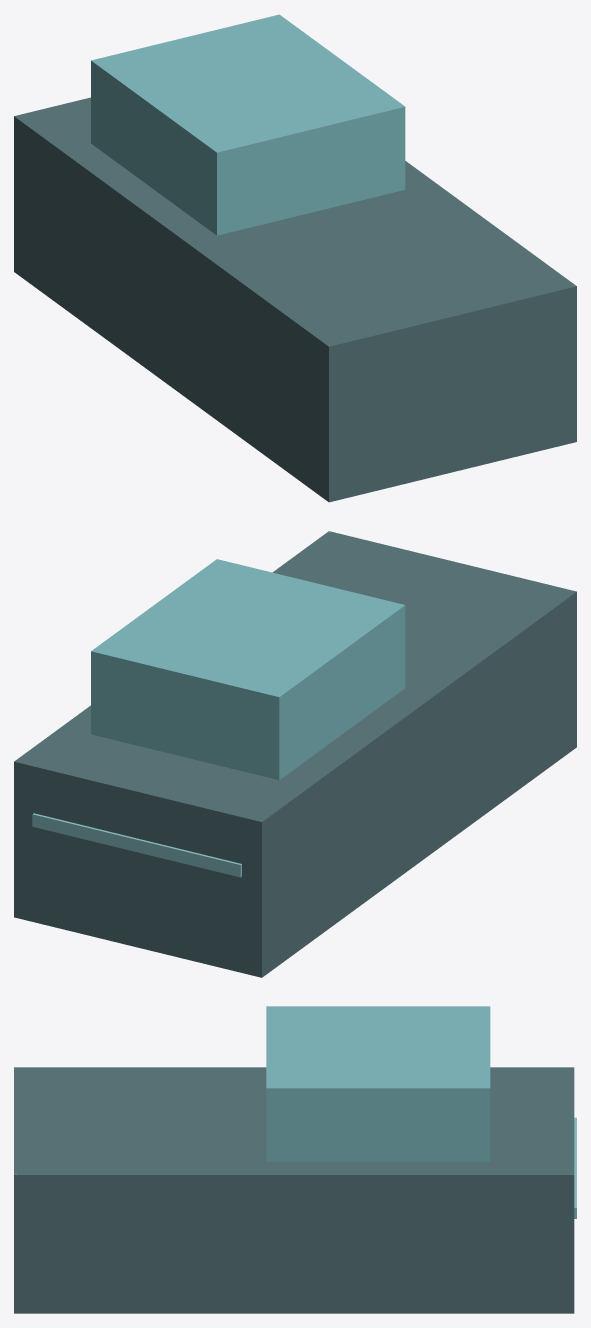
Rendered from visual-far.glb.
3 renders of one model, top to bottom at view 1: azimuth 30°, elevation 25°; view 2: azimuth 150°, elevation 25°; view 3: azimuth 270°, elevation 25°, orthographic. The views are drawn at different scales.
Visible parts, largest first — view 1: 原三盒载具代理尺寸派生; view 2: 原三盒载具代理尺寸派生; view 3: 原三盒载具代理尺寸派生.
Boxes of the visible parts, <box> form: 原三盒载具代理尺寸派生: <box>14,14,576,502</box>; 原三盒载具代理尺寸派生: <box>14,531,576,977</box>; 原三盒载具代理尺寸派生: <box>14,1006,576,1313</box>.
Bounding box in the file's own units: 2.5 × 2.3 × 5.53.
4 materials, 4 textured.
